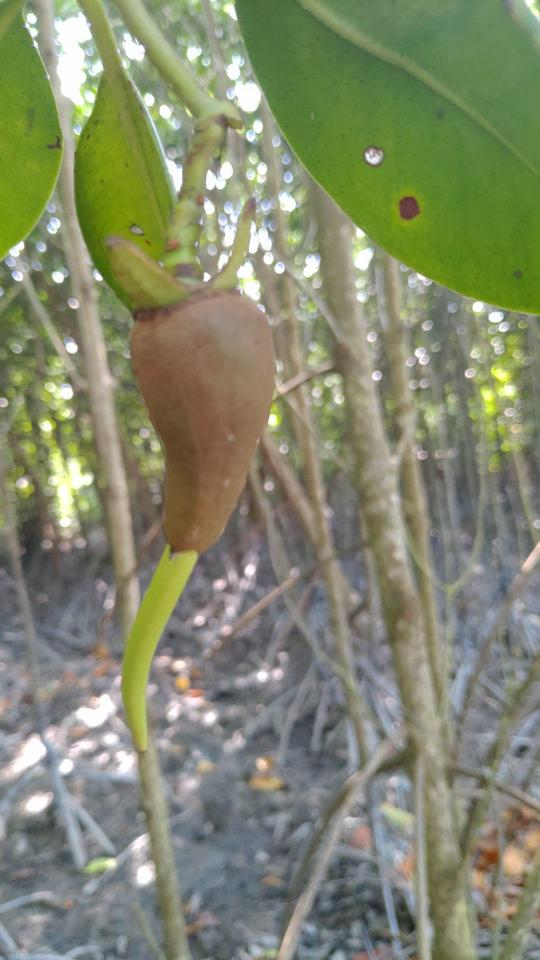mentah: (105, 192, 285, 771)
